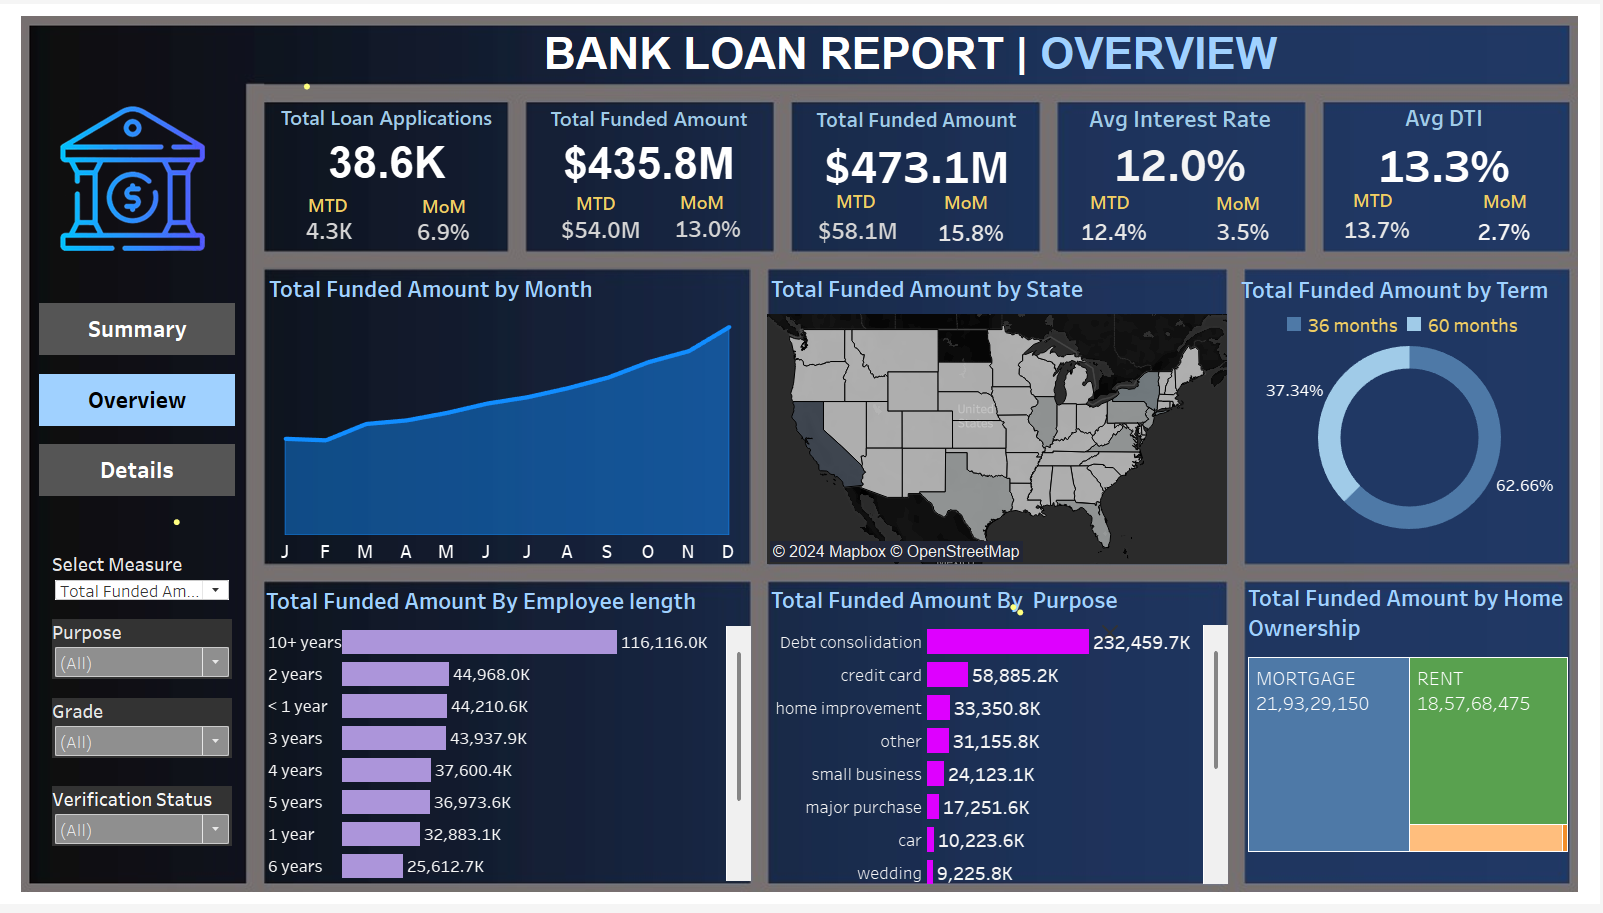

The dashboard page shown, as its layout file describes it:
{"tool":"tableau","page":{"name":"OVERVIEW","canvas":[1600,900],"ordinal":1},"visuals":[{"type":"image","param":"M:/tableau dashboard/Tableau Background 2.jpg","box":[8,8,1584,884]},{"type":"text","box":[540,29,786,42]},{"type":"image","param":"C:/Users/ashwi/AppData/Local/Temp/TableauTemp/1e9nz9i0iaenqt1alntwf1wt6f6d/Sheet","box":[50,92,185,165]},{"type":"worksheet","title":"Avg DTI","mark":"Automatic","box":[1321,94,246,86]},{"type":"worksheet","title":"Total Loan Applications","mark":"Automatic","box":[264,95,245,85]},{"type":"worksheet","title":"Avg Interest Rate","mark":"Automatic","box":[1056,95,248,83]},{"type":"worksheet","title":"Total Funded Amount","mark":"Automatic","box":[525,96,248,85]},{"type":"worksheet","title":"Total Amount Recived","mark":"Automatic","box":[792,97,249,84]},{"type":"text","box":[1479,181,71,31]},{"type":"text","box":[676,182,71,31]},{"type":"text","box":[940,182,71,31]},{"type":"text","box":[1212,183,71,31]},{"type":"text","box":[418,186,71,32]},{"type":"text","box":[1349,186,50,20]},{"type":"text","box":[832,187,50,20]},{"type":"text","box":[1086,188,50,20]},{"type":"text","box":[572,189,50,20]},{"type":"text","box":[304,191,50,20]},{"type":"worksheet","title":"MTD Avg DTI","mark":"Automatic","box":[1339,199,76,52]},{"type":"worksheet","title":"MoM Avg Int Rate","mark":"Automatic","box":[1202,203,81,47]},{"type":"worksheet","title":"MoM Total Funded Amount","mark":"Automatic","box":[666,210,84,28]},{"type":"worksheet","title":"MoM Avg DTI","mark":"Automatic","box":[1454,210,100,33]},{"type":"worksheet","title":"MTD Total Amount Recived","mark":"Automatic","box":[809,211,97,30]},{"type":"worksheet","title":"MTD Total Loan Applications","mark":"Automatic","box":[296,213,66,25]},{"type":"worksheet","title":"MoM Loan Applications","mark":"Automatic","box":[413,213,60,27]},{"type":"worksheet","title":"MTD Avg INT Rate","mark":"Automatic","box":[1073,213,82,27]},{"type":"worksheet","title":"MTD Total Funded Amount","mark":"Automatic","box":[556,214,90,22]},{"type":"worksheet","title":"MoM Total Amount Recived","mark":"Automatic","box":[932,214,78,27]},{"type":"worksheet","title":"Month","mark":"Area","rows":["Calculation_1836342767506944044","Calculation_1836342767506944044"],"cols":["issue_date"],"box":[265,265,484,295]},{"type":"worksheet","title":"State","mark":"Multipolygon","box":[767,265,460,295]},{"type":"worksheet","title":"Term","mark":"Pie","rows":["Calculation_1836342767590154289","Calculation_1836342767590223923"],"box":[1237,266,345,290]},{"type":"dashboard-object","box":[39,299,196,52]},{"type":"dashboard-object","box":[39,370,196,52]},{"type":"dashboard-object","box":[39,440,196,52]},{"type":"parameter","param":"[Parameters].[Parameter 1]","box":[52,547,180,60]},{"type":"worksheet","title":"Home Own","mark":"Automatic","box":[1244,574,327,310]},{"type":"worksheet","title":"Purpose","mark":"Automatic","rows":["purpose"],"cols":["Calculation_1836342767506944044"],"box":[767,576,461,304]},{"type":"worksheet","title":"Emp Lenght","mark":"Automatic","rows":["emp_length"],"cols":["Calculation_1836342767506944044"],"box":[262,577,489,300]},{"type":"filter","title":"Avg DTI","param":"[federated.0cwbiav12vk9u31ck76nl0ow8zpv].[none:purpose:nk]","box":[52,615,180,60]},{"type":"dashboard-object","box":[1098,617,24,24]},{"type":"filter","title":"Avg DTI","param":"[federated.0cwbiav12vk9u31ck76nl0ow8zpv].[none:grade:nk]","box":[52,694,180,60]},{"type":"filter","title":"Avg DTI","param":"[federated.0cwbiav12vk9u31ck76nl0ow8zpv].[none:verification_status:nk]","box":[52,782,180,60]}]}

Visuals, with their boxes in screenshot pixels (x1, y1, x2, y2), scaled from the page's 1600x900 canvas onto the 1603x913 screenshot:
image: 8,8,1595,905
text: 541,29,1328,72
image: 50,93,235,261
"Avg DTI" worksheet: 1323,95,1570,183
"Total Loan Applications" worksheet: 264,96,510,183
"Avg Interest Rate" worksheet: 1058,96,1306,181
"Total Funded Amount" worksheet: 526,97,774,184
"Total Amount Recived" worksheet: 793,98,1043,184
text: 1482,184,1553,215
text: 677,185,748,216
text: 942,185,1013,216
text: 1214,186,1285,217
text: 419,189,490,221
text: 1352,189,1402,209
text: 834,190,884,210
text: 1088,191,1138,211
text: 573,192,623,212
text: 305,194,355,214
"MTD Avg DTI" worksheet: 1342,202,1418,255
"MoM Avg Int Rate" worksheet: 1204,206,1285,254
"MoM Total Funded Amount" worksheet: 667,213,751,241
"MoM Avg DTI" worksheet: 1457,213,1557,247
"MTD Total Amount Recived" worksheet: 811,214,908,244
"MTD Total Loan Applications" worksheet: 297,216,363,241
"MoM Loan Applications" worksheet: 414,216,474,243
"MTD Avg INT Rate" worksheet: 1075,216,1157,243
"MTD Total Funded Amount" worksheet: 557,217,647,239
"MoM Total Amount Recived" worksheet: 934,217,1012,244
"Month" worksheet (Area marks): 265,269,750,568
"State" worksheet (Multipolygon marks): 768,269,1229,568
"Term" worksheet (Pie marks): 1239,270,1585,564
dashboard-object: 39,303,235,356
dashboard-object: 39,375,235,428
dashboard-object: 39,446,235,499
parameter: 52,555,232,616
"Home Own" worksheet: 1246,582,1574,897
"Purpose" worksheet: 768,584,1230,893
"Emp Lenght" worksheet: 262,585,752,890
"Avg DTI" filter: 52,624,232,685
dashboard-object: 1100,626,1124,650
"Avg DTI" filter: 52,704,232,765
"Avg DTI" filter: 52,793,232,854
